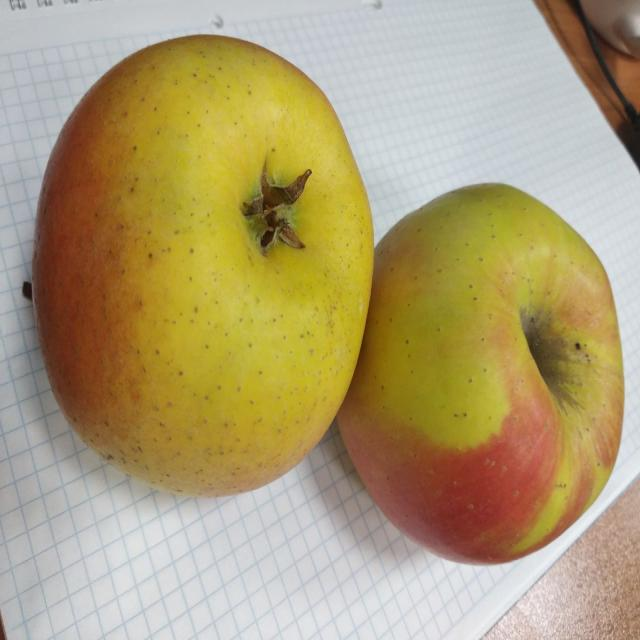Healty Apple: (35, 26, 377, 492), (379, 182, 621, 564)
